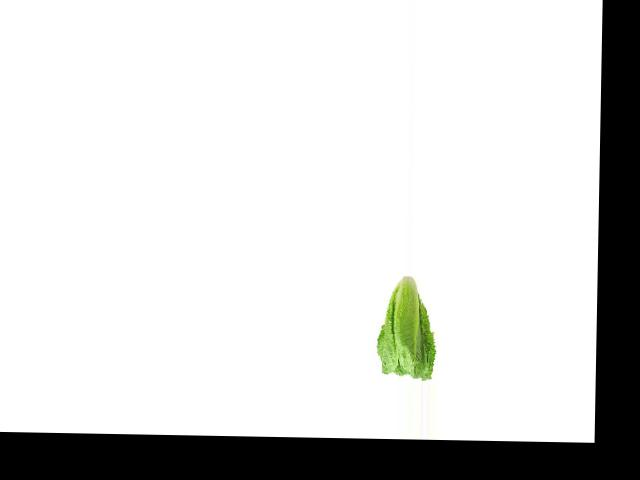lettuce: (369, 276, 440, 380)
